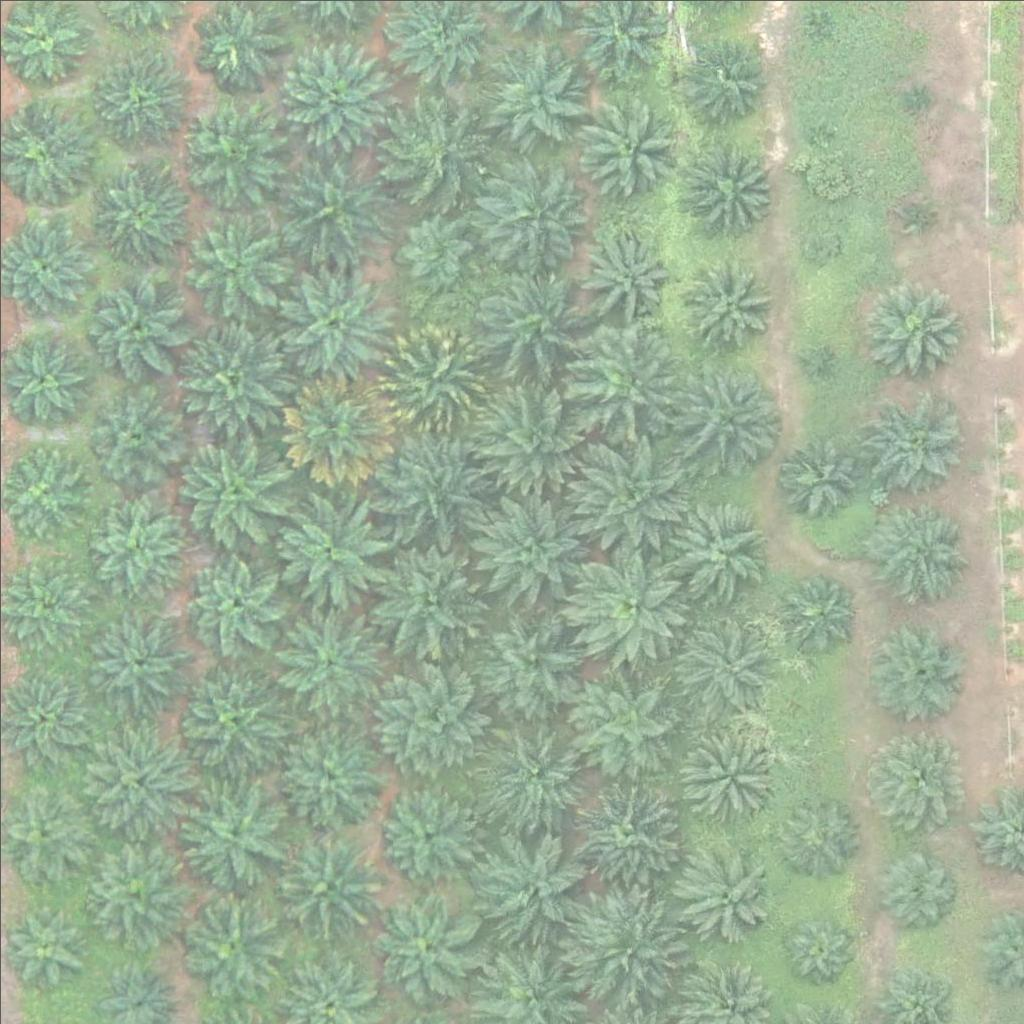Kelapa_Sawit: (278, 30, 391, 144), (671, 361, 784, 475), (567, 891, 680, 1004), (566, 774, 679, 887), (473, 829, 586, 942), (479, 718, 592, 831), (471, 603, 584, 716), (371, 663, 484, 776), (368, 549, 481, 662), (369, 431, 482, 544), (178, 776, 291, 889), (80, 724, 193, 837), (77, 604, 190, 717), (176, 203, 289, 316), (280, 370, 393, 483), (378, 321, 491, 434), (278, 269, 391, 382), (281, 151, 394, 264), (572, 433, 684, 547), (478, 263, 590, 377), (474, 160, 586, 274), (569, 327, 681, 441), (572, 665, 684, 778), (573, 544, 685, 657), (470, 492, 582, 605), (367, 889, 479, 1002), (265, 823, 377, 936), (272, 717, 384, 830), (272, 598, 384, 711), (275, 492, 387, 605), (172, 658, 284, 771), (171, 434, 283, 547), (178, 321, 290, 434), (481, 377, 593, 490), (871, 502, 971, 603), (673, 841, 773, 942), (678, 723, 778, 824), (373, 784, 473, 885), (183, 550, 283, 651), (84, 384, 184, 485), (86, 275, 186, 376), (88, 159, 188, 260), (86, 49, 186, 150), (178, 105, 278, 206), (487, 44, 587, 145), (578, 95, 678, 196), (863, 391, 963, 492), (865, 283, 965, 384), (861, 729, 961, 829), (866, 622, 966, 722), (668, 610, 768, 710), (666, 497, 766, 597), (181, 901, 281, 1001), (83, 841, 183, 941), (382, 101, 482, 201), (681, 35, 769, 123), (875, 845, 962, 933), (773, 790, 860, 878), (91, 499, 178, 587), (581, 230, 668, 318), (681, 263, 768, 351), (688, 141, 775, 229), (775, 434, 862, 522), (780, 574, 855, 650), (4, 910, 79, 986), (398, 214, 473, 290), (782, 911, 857, 986), (799, 221, 837, 259), (799, 349, 824, 374), (803, 119, 828, 144), (809, 3, 834, 28), (903, 199, 928, 224), (903, 86, 928, 111)
